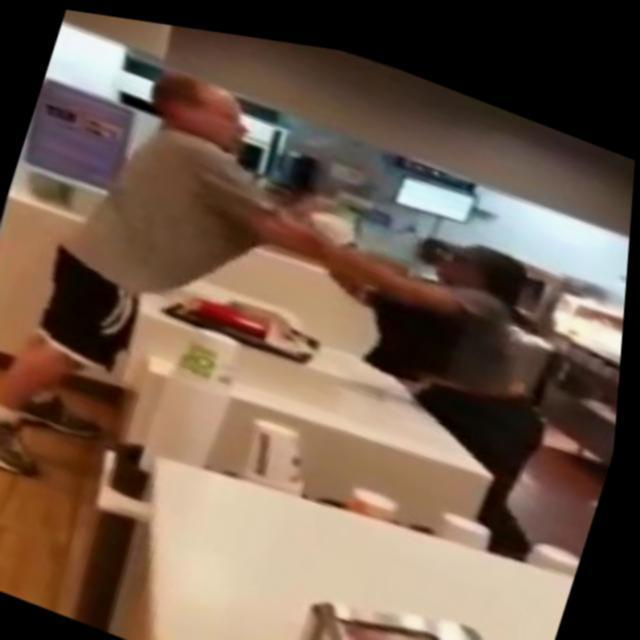fight: (39, 13, 611, 434)
